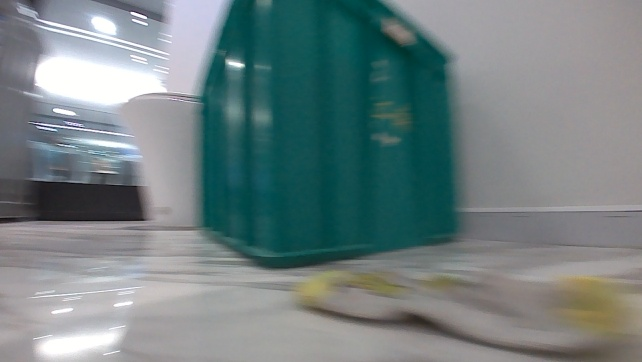socks: (292, 264, 641, 361)
toilet: (114, 89, 206, 229)
